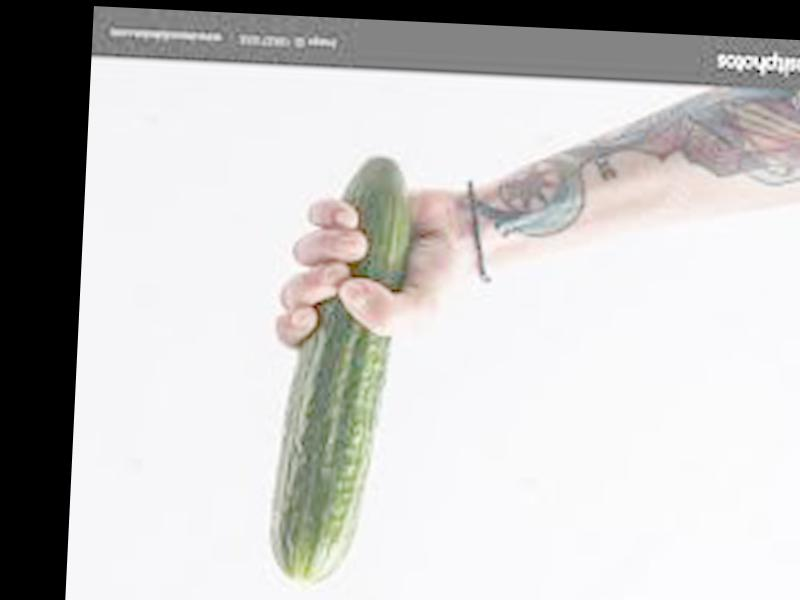Cucumber: (266, 155, 411, 592)
